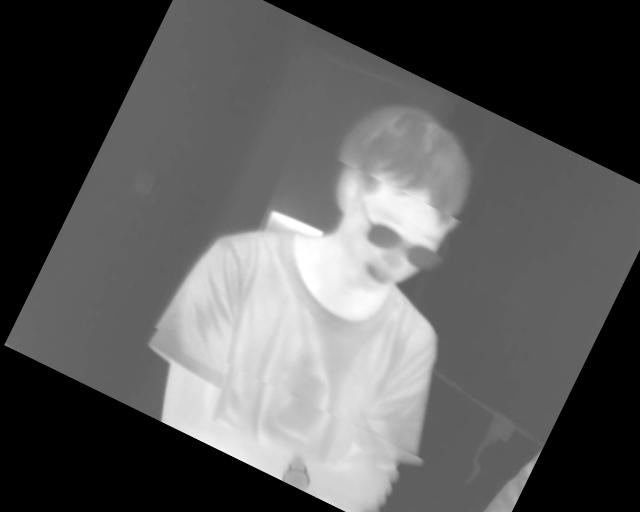face: (287, 83, 499, 316)
